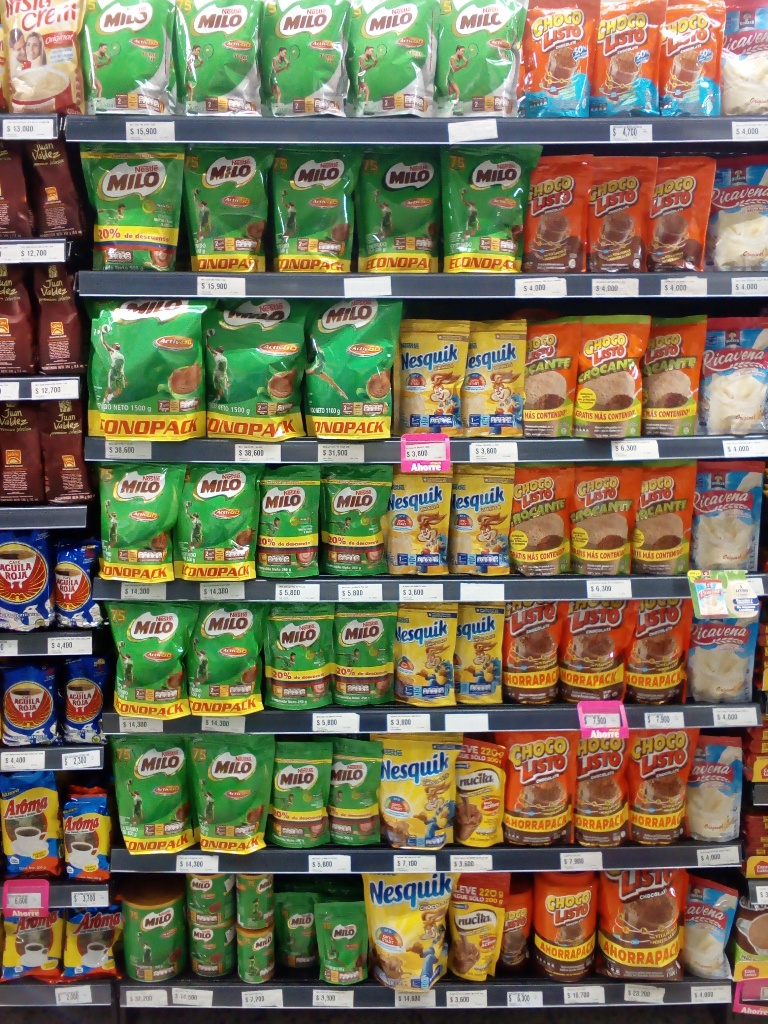COL0170103DYP44000: (625, 597, 691, 702)
COL0170103TRR00100: (534, 870, 604, 984)
COL0170104DYP20000: (661, 2, 727, 117)
COL0170203LAT20000: (234, 929, 275, 983)
COL0170203LAT40000: (186, 924, 238, 979)
COL0170303DYP20000: (452, 602, 505, 710)
